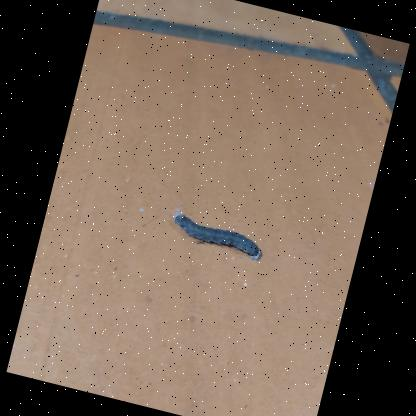Fall Armyworm Larvae: (168, 211, 265, 261)
